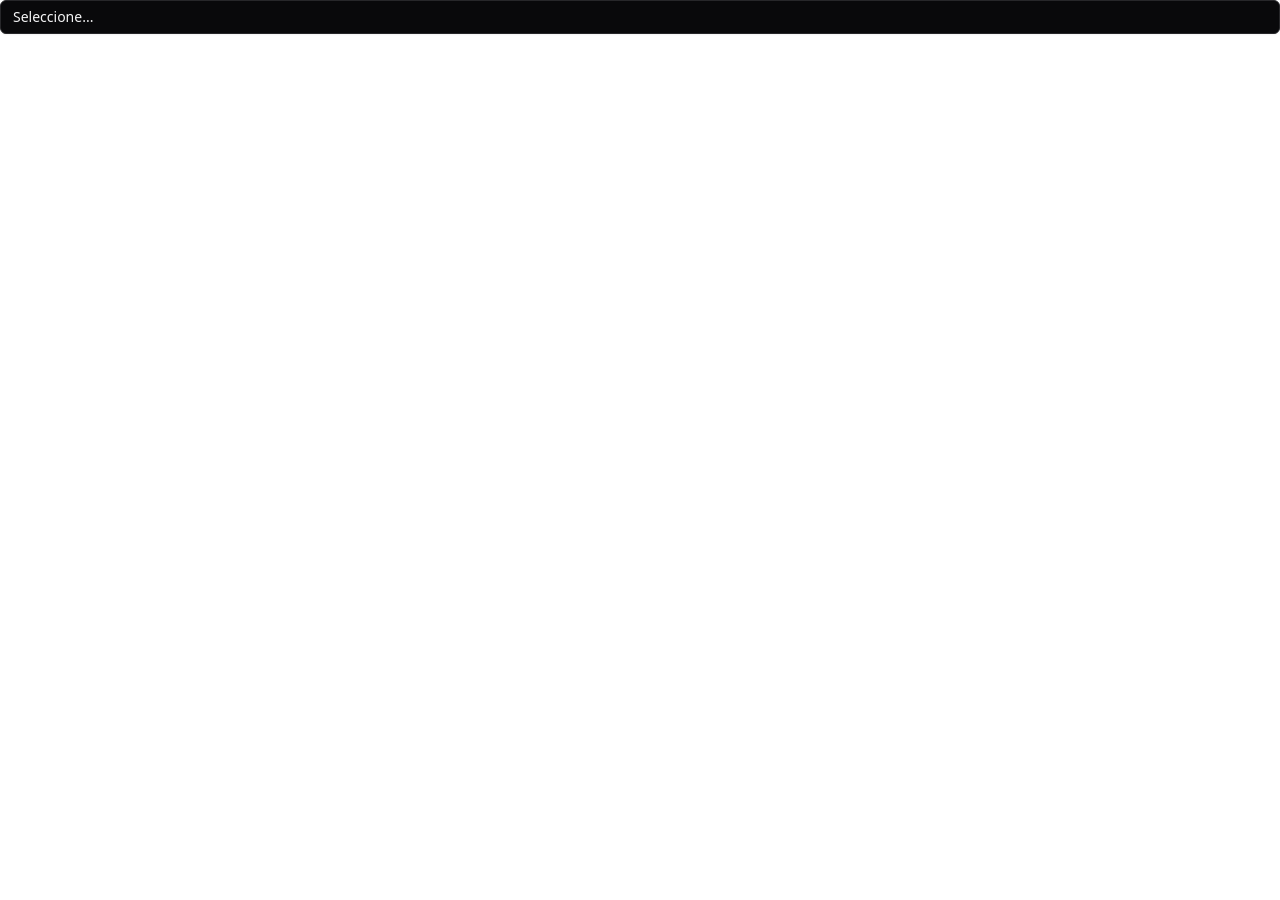
Test: SearchableCombobox › filters the options while typing and shows the empty message when nothing matches
Click the button "Seleccione...". click: (53, 16)
box: [13,7,1267,27]
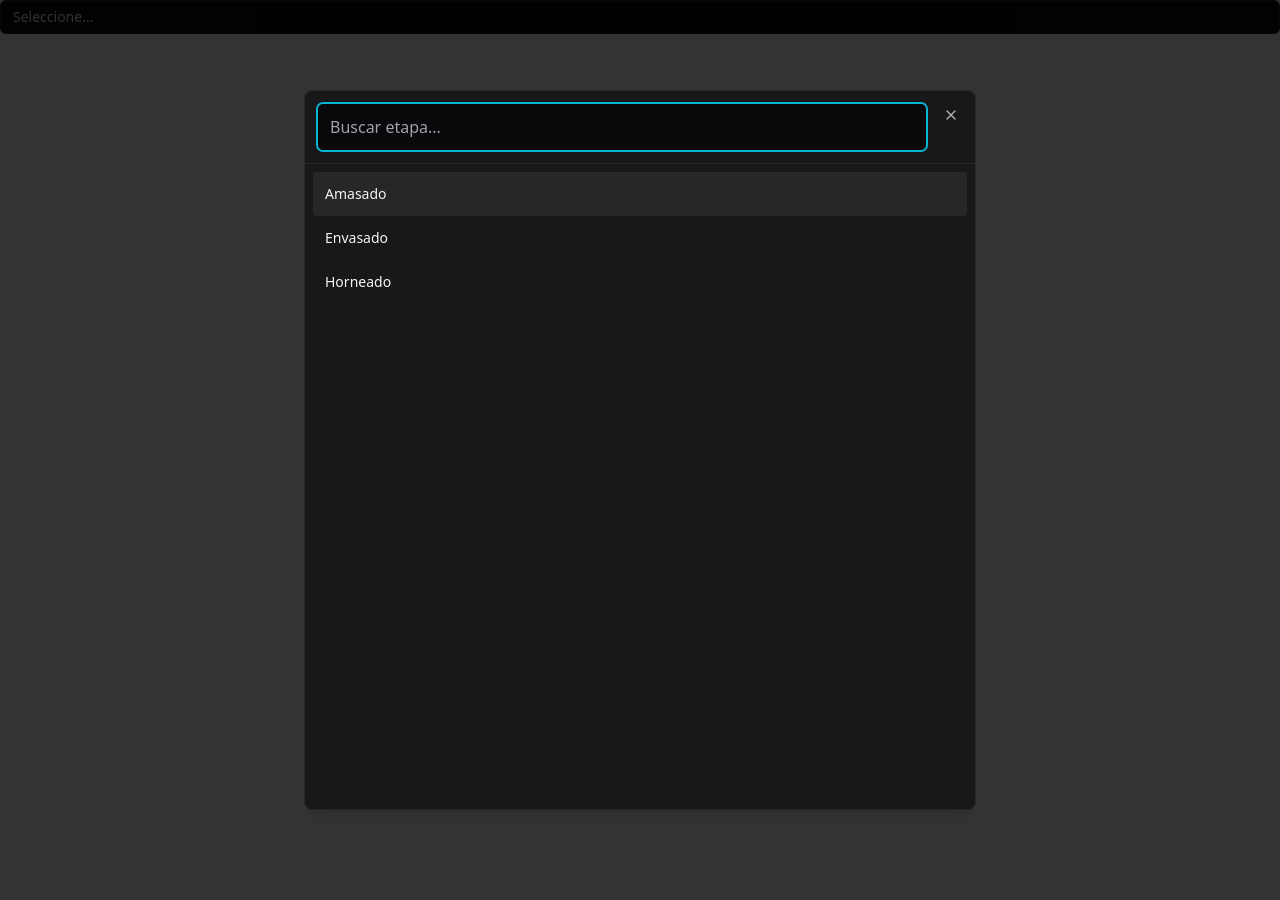
Type "Envas" into the dropdown with placeholder "Buscar etapa...". click: (622, 127)
box: [317,103,927,151]
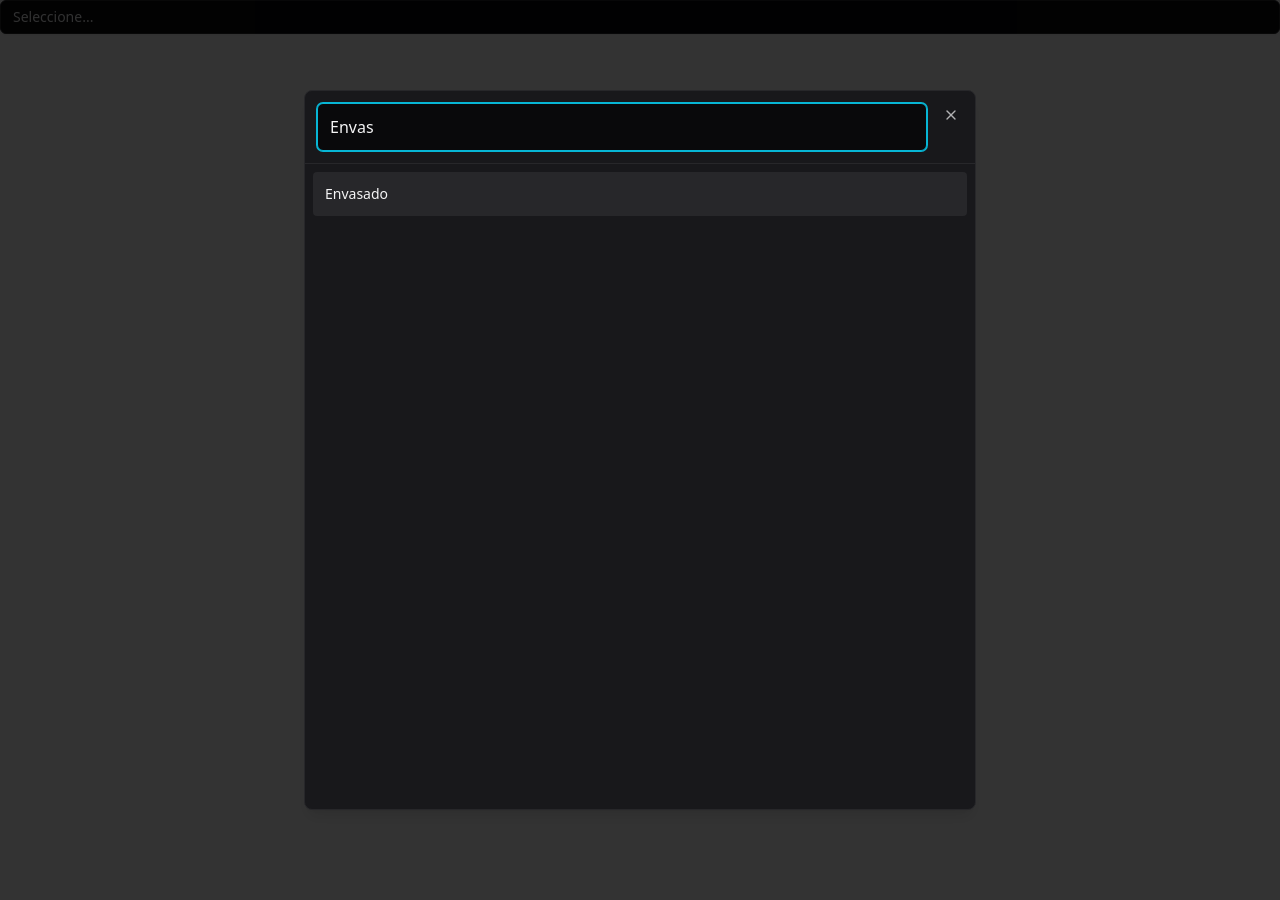
Expected: the text "No se encontraron resultados." is not shown
Result: the options read "Envasado", in this order at [313,172,967,216]
Replace the text in the dropdown with placeholder "Buscar etapa..." with "zzz". click: (622, 127)
box: [317,103,927,151]
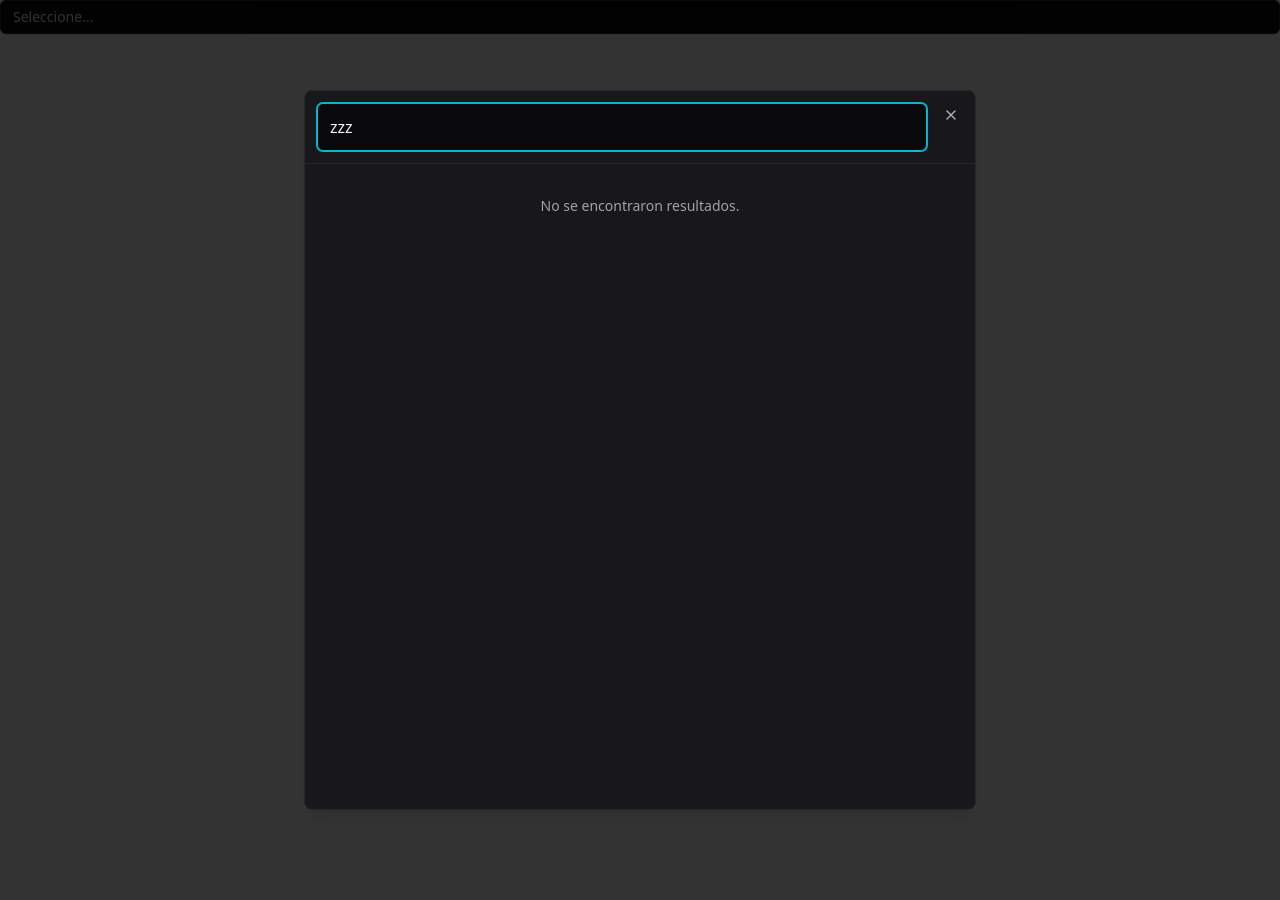
Result: the option is gone
Result: the text "No se encontraron resultados." is shown at [541,196,740,215]
